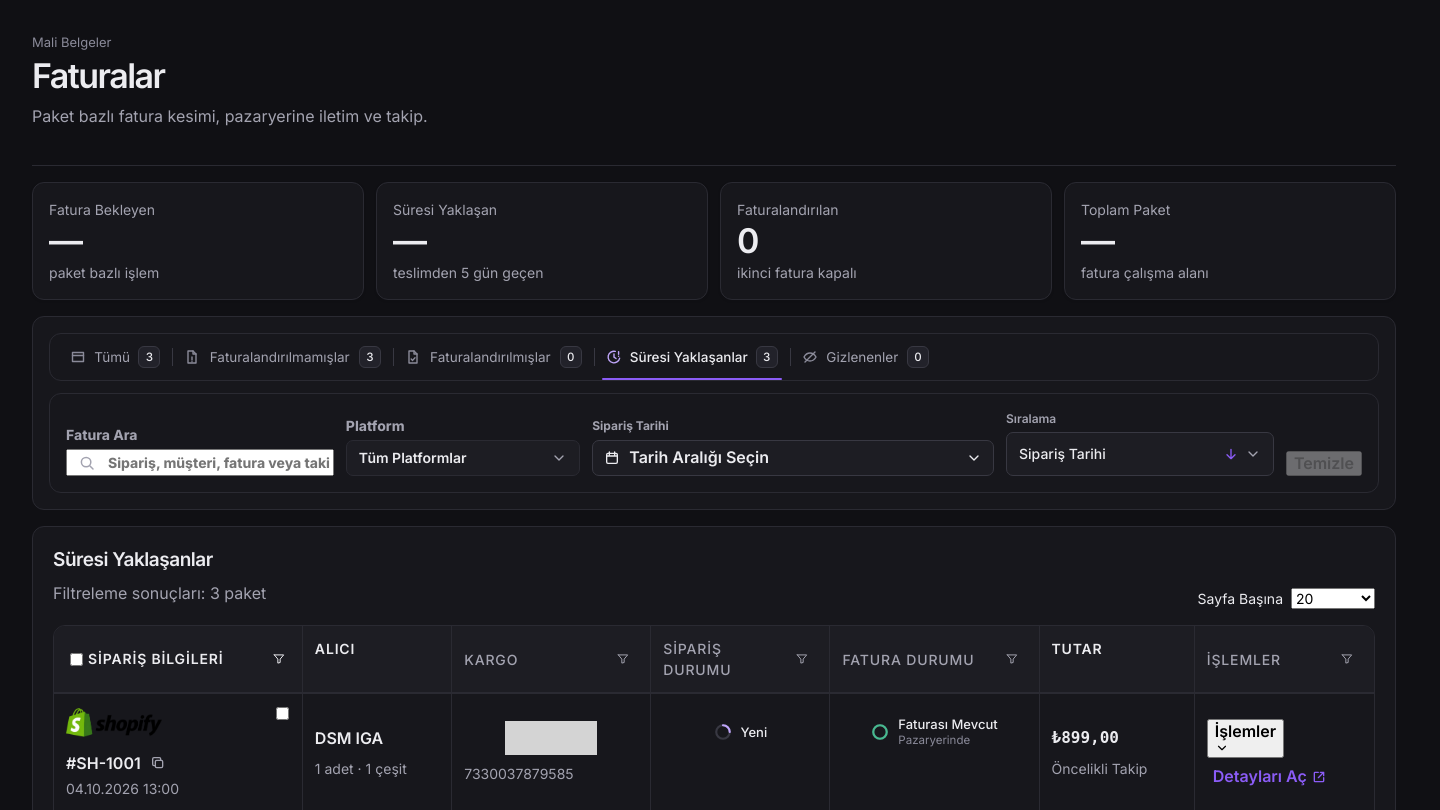
it: InvoicesPage Shopify bulk invoice status › shows recognizable labels for structured address fields in invoice details
Step 1. Click the button with class "invoice-reference-details-trigger" → (1270, 777), box [1207,766,1333,787]
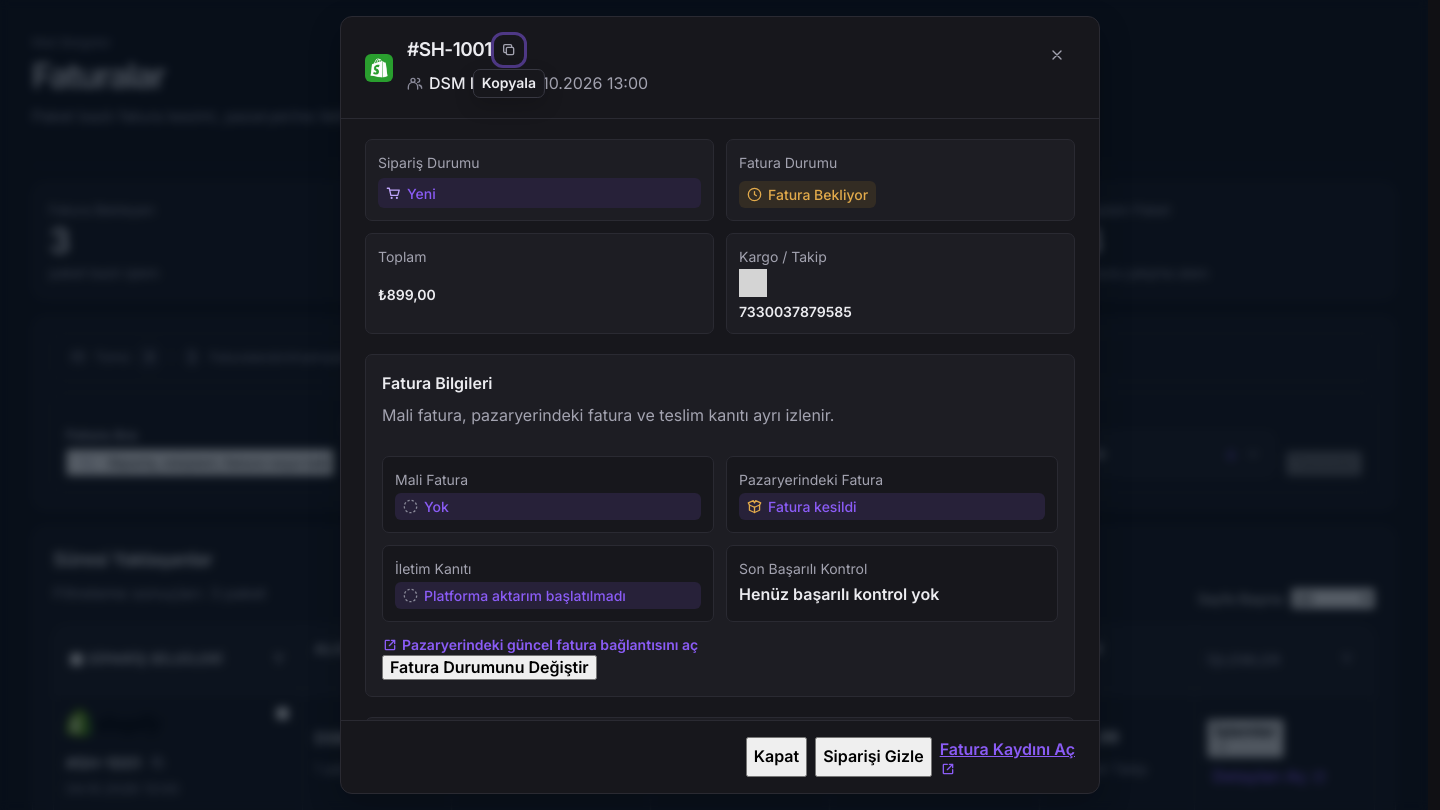
Expected: the button "Siparişi Gizle" is shown, [815,737,932,777]
